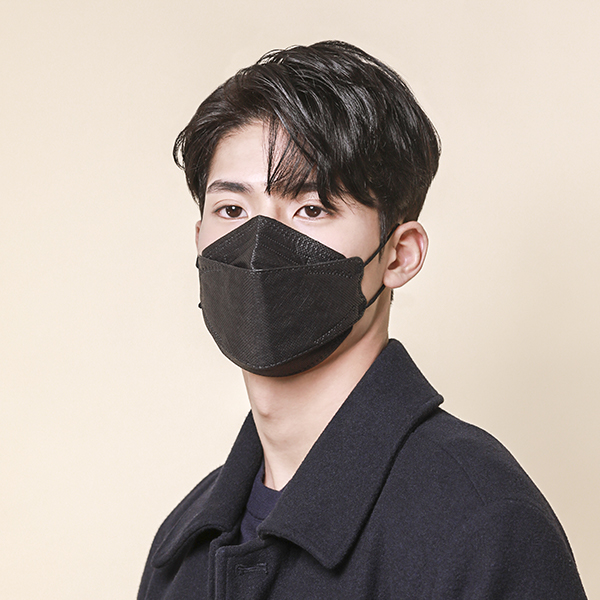mask: (193, 216, 381, 373)
person: (121, 37, 576, 600)
